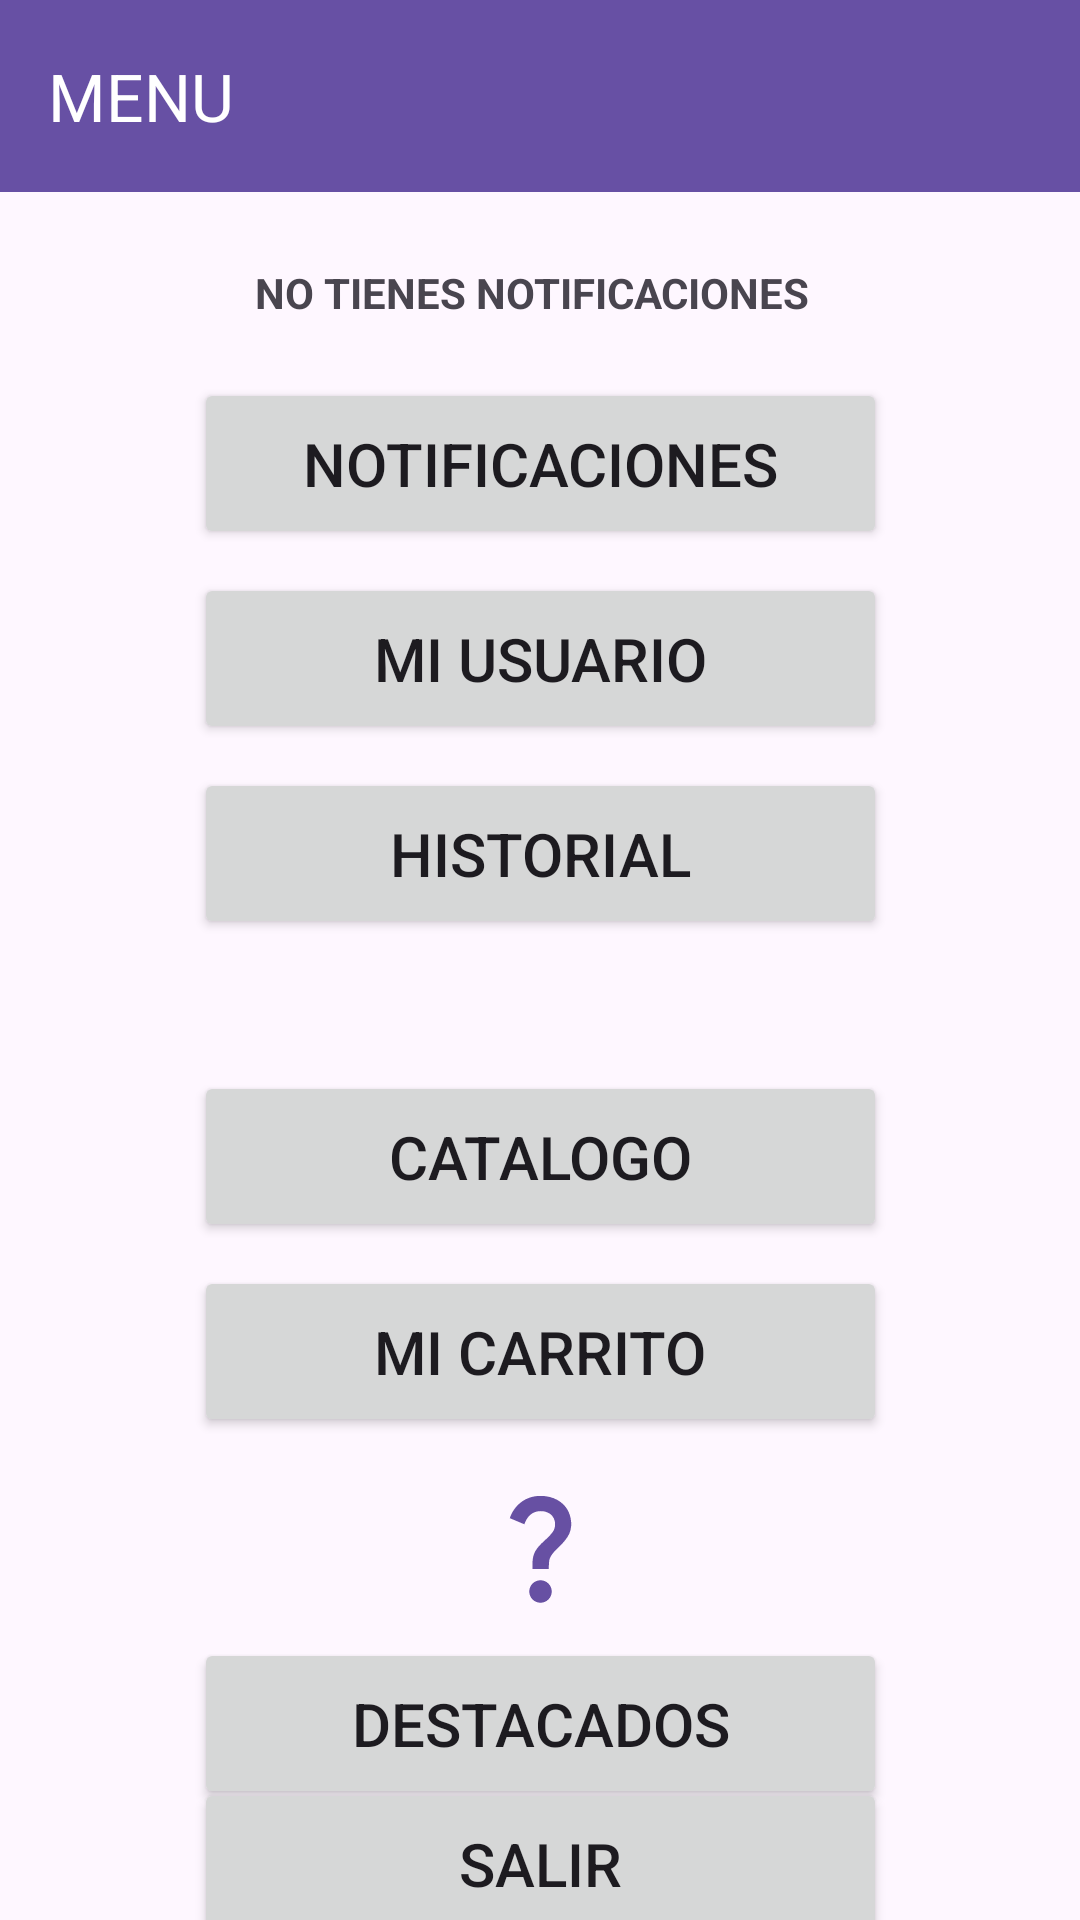

Icon bounding boxes for this 1080w x 1920h phone screenshot, format box(x1, y1, x2, y2):
question mark: box(510, 1496, 572, 1603)
